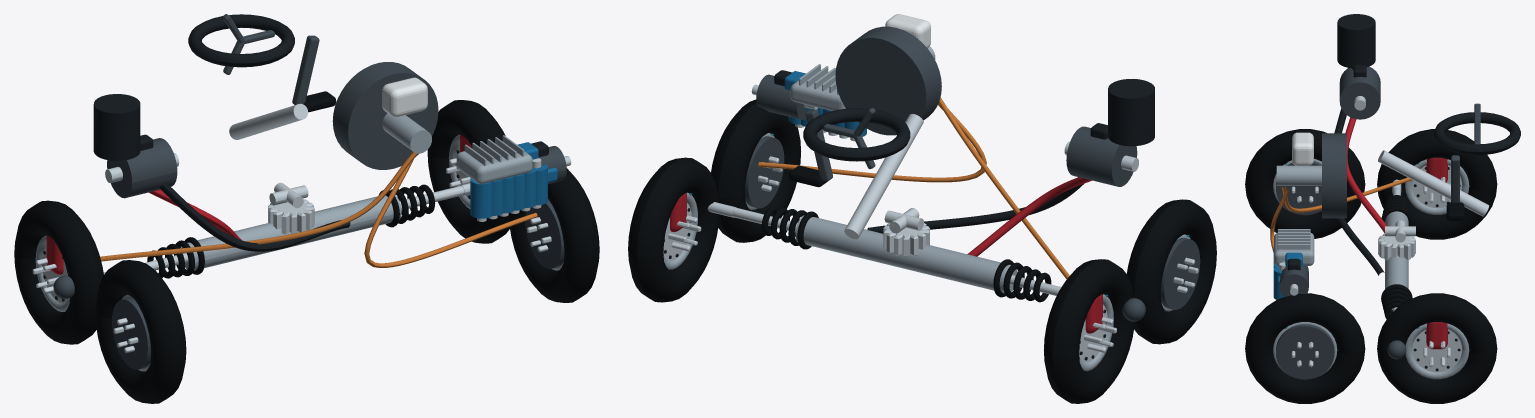
The model's file is generic_steering_brakes_wheels.glb.
3 renders of one model, left to right at view 1: azimuth 30°, elevation 25°; view 2: azimuth 150°, elevation 25°; view 3: azimuth 270°, elevation 25°, orthographic. The views are drawn at different scales.
Visible parts, largest first — view 1: system_mesh__wheels_tires__tire_3, system_mesh__wheels_tires__tire_1, system_mesh__brake_booster__vacuum_shell, system_mesh__wheels_tires__tire_4, system_mesh__wheels_tires__tire_2, system_mesh__steering_rack__rack_housing, system_mesh__power_steering_reservoir__reservoir, system_mesh__steering_wheel__rim, system_mesh__power_steering_pump__motor_case, system_mesh__rear_drum_context__left_drum, system_mesh__brake_lines__front_split, system_mesh__steering_hoses__return (+12 smaller); view 2: system_mesh__wheels_tires__tire_2, system_mesh__wheels_tires__tire_1, system_mesh__brake_booster__vacuum_shell, system_mesh__wheels_tires__tire_3, system_mesh__wheels_tires__tire_4, system_mesh__steering_rack__rack_housing, system_mesh__power_steering_reservoir__reservoir, system_mesh__steering_wheel__rim, system_mesh__power_steering_pump__motor_case, system_mesh__steering_column__column, system_mesh__rear_drum_context__left_drum, system_mesh__rear_drum_context__right_drum (+14 smaller); view 3: system_mesh__wheels_tires__tire_4, system_mesh__wheels_tires__tire_2, system_mesh__wheels_tires__tire_1, system_mesh__wheels_tires__tire_3, system_mesh__rear_drum_context__right_drum, system_mesh__brake_booster__vacuum_shell, system_mesh__power_steering_reservoir__reservoir, system_mesh__steering_wheel__rim, system_mesh__power_steering_pump__motor_case, system_mesh__steering_column__column, system_mesh__front_discs__right_disc, system_mesh__wheels_tires__rim_2 (+20 smaller).
Boxes of the visible parts, x1,y1,x2,y2 form: system_mesh__wheels_tires__tire_3: (95,260,186,403); system_mesh__wheels_tires__tire_1: (14,200,103,344); system_mesh__brake_booster__vacuum_shell: (332,62,438,169); system_mesh__wheels_tires__tire_4: (508,168,599,302); system_mesh__wheels_tires__tire_2: (427,100,509,243); system_mesh__steering_rack__rack_housing: (181,195,401,270); system_mesh__power_steering_reservoir__reservoir: (93,94,140,160); system_mesh__steering_wheel__rim: (188,14,294,67); system_mesh__power_steering_pump__motor_case: (107,138,177,198); system_mesh__rear_drum_context__left_drum: (112,298,150,369); system_mesh__brake_lines__front_split: (100,152,417,261); system_mesh__steering_hoses__return: (159,184,350,251); system_mesh__wheels_tires__tire_2: (628,157,719,302); system_mesh__wheels_tires__tire_1: (1044,259,1134,403); system_mesh__brake_booster__vacuum_shell: (835,26,941,135); system_mesh__wheels_tires__tire_3: (1127,199,1216,344); system_mesh__wheels_tires__tire_4: (711,99,800,242); system_mesh__steering_rack__rack_housing: (795,215,1017,292); system_mesh__power_steering_reservoir__reservoir: (1108,79,1154,146); system_mesh__steering_wheel__rim: (803,108,910,161); system_mesh__power_steering_pump__motor_case: (1066,126,1137,186); system_mesh__steering_column__column: (844,114,923,239); system_mesh__rear_drum_context__left_drum: (1160,238,1200,309); system_mesh__rear_drum_context__right_drum: (745,136,784,208); system_mesh__wheels_tires__tire_4: (1245,293,1365,403); system_mesh__wheels_tires__tire_2: (1377,293,1497,403); system_mesh__wheels_tires__tire_1: (1377,129,1497,239); system_mesh__wheels_tires__tire_3: (1245,129,1365,238); system_mesh__rear_drum_context__right_drum: (1276,324,1334,379); system_mesh__brake_booster__vacuum_shell: (1322,133,1346,218); system_mesh__power_steering_reservoir__reservoir: (1337,14,1375,68); system_mesh__steering_wheel__rim: (1434,112,1520,155); system_mesh__power_steering_pump__motor_case: (1339,66,1380,119); system_mesh__steering_column__column: (1378,150,1489,216); system_mesh__front_discs__right_disc: (1412,329,1462,372); system_mesh__wheels_tires__rim_2: (1405,323,1469,379).
Size of the model in its own units: 6.06 by 3.31 by 3.76.
